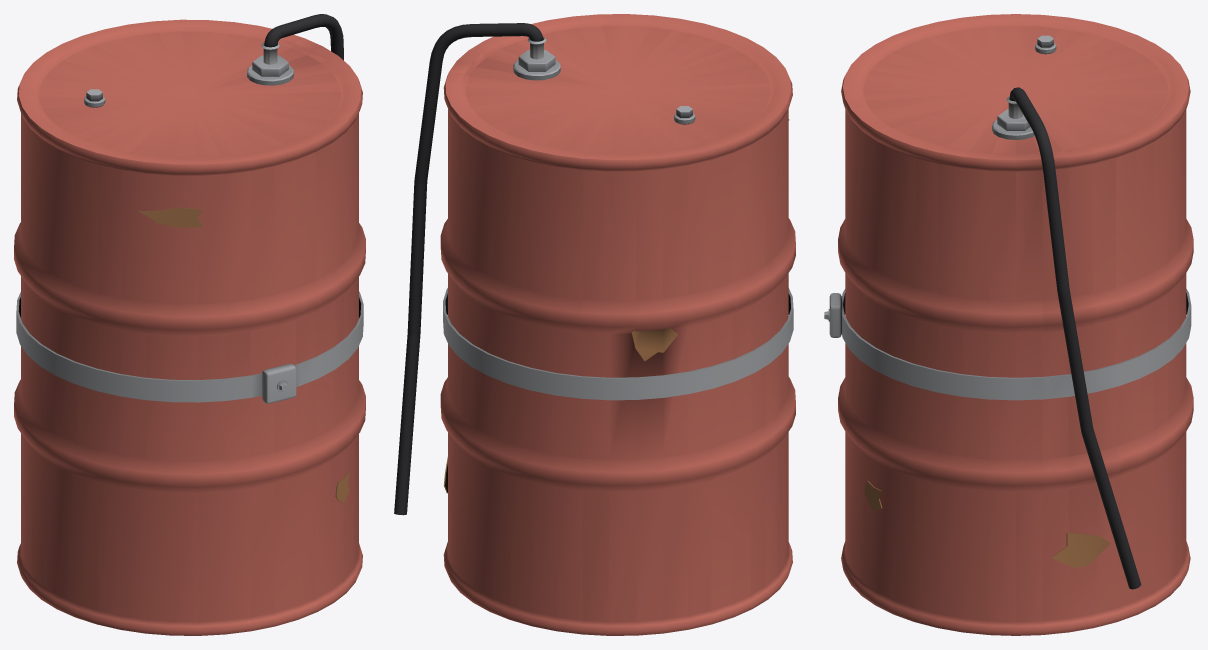
The model's file is tank_drum.glb.
The picture shows the model from 3 angles, left to right: view 1: azimuth 30°, elevation 25°; view 2: azimuth 150°, elevation 25°; view 3: azimuth 270°, elevation 25°; orthographic projection.
Visible parts, largest first — view 1: PART; view 2: PART; view 3: PART.
Part boxes in pixels (left/top/right/bottom): PART: left=14, top=14, right=365, bottom=635; PART: left=394, top=14, right=795, bottom=635; PART: left=824, top=14, right=1193, bottom=635.
Size of the model in its own units: 0.6449 by 0.9578 by 0.619.
